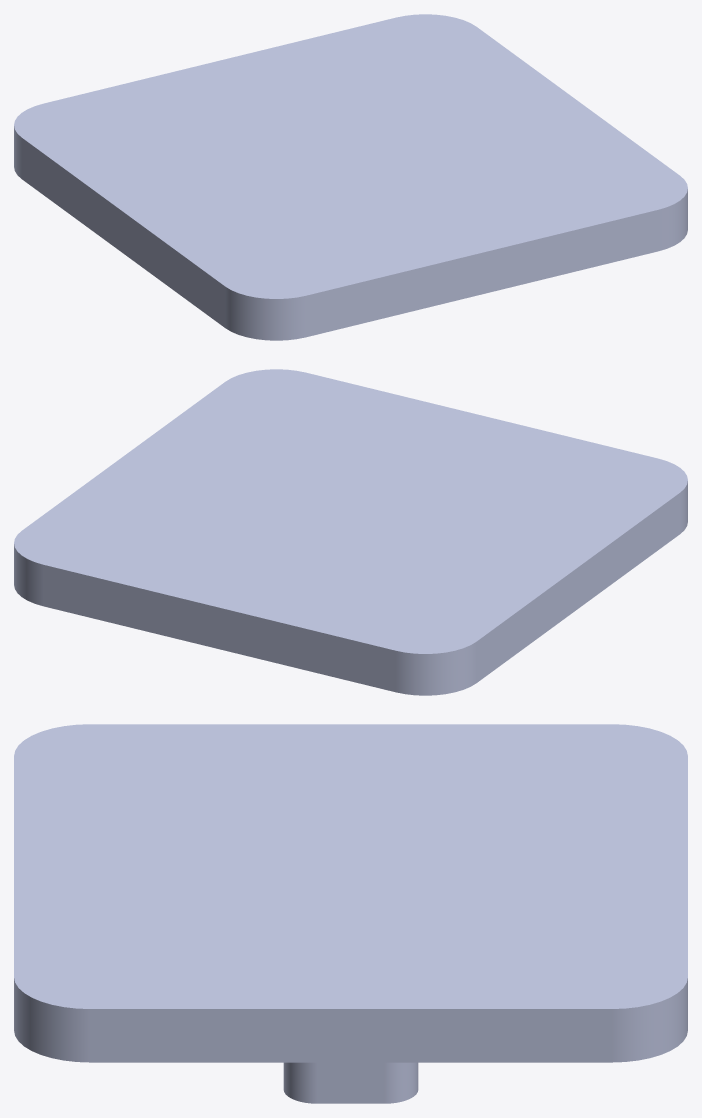
File: TPGG-TPGG-H-408-4040.glb
3 renders of one model, top to bottom at view 1: azimuth 30°, elevation 25°; view 2: azimuth 150°, elevation 25°; view 3: azimuth 270°, elevation 25°, orthographic. The views are drawn at different scales.
Visible parts, largest first — view 1: TPGG-H-408-4040; view 2: TPGG-H-408-4040; view 3: TPGG-H-408-4040.
Part boxes in pixels (x1,y1,x2,y2): TPGG-H-408-4040: [14, 14, 687, 340]; TPGG-H-408-4040: [14, 369, 687, 695]; TPGG-H-408-4040: [14, 724, 687, 1103].
Size of the model in its own units: 0.04 by 0.0105 by 0.04.
